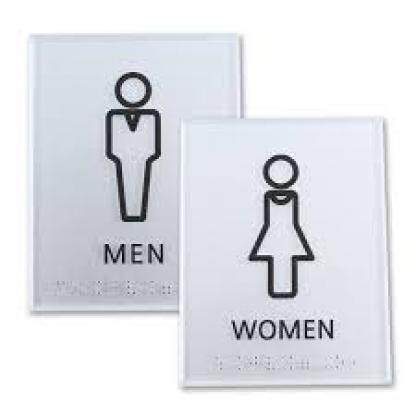toilet: (245, 154, 320, 300), (99, 71, 168, 223)
